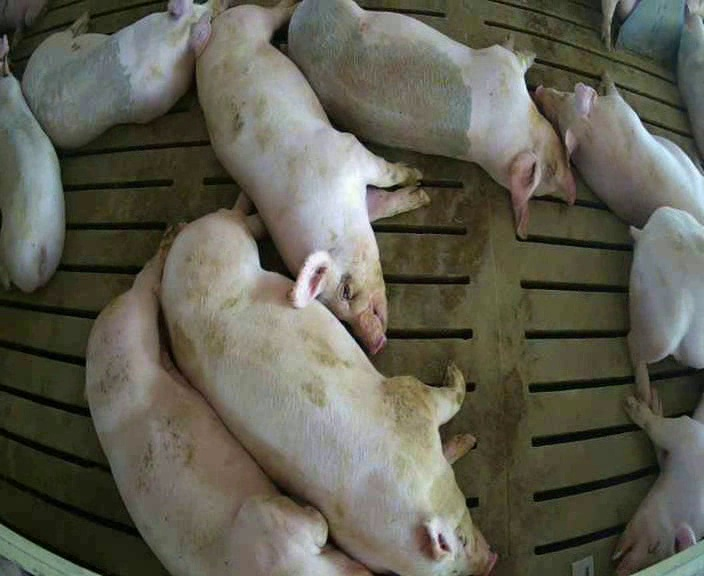pig: (86, 230, 369, 574), (196, 5, 427, 353), (289, 2, 574, 237), (535, 75, 703, 226), (613, 388, 703, 574), (628, 207, 703, 399), (678, 2, 703, 156)
